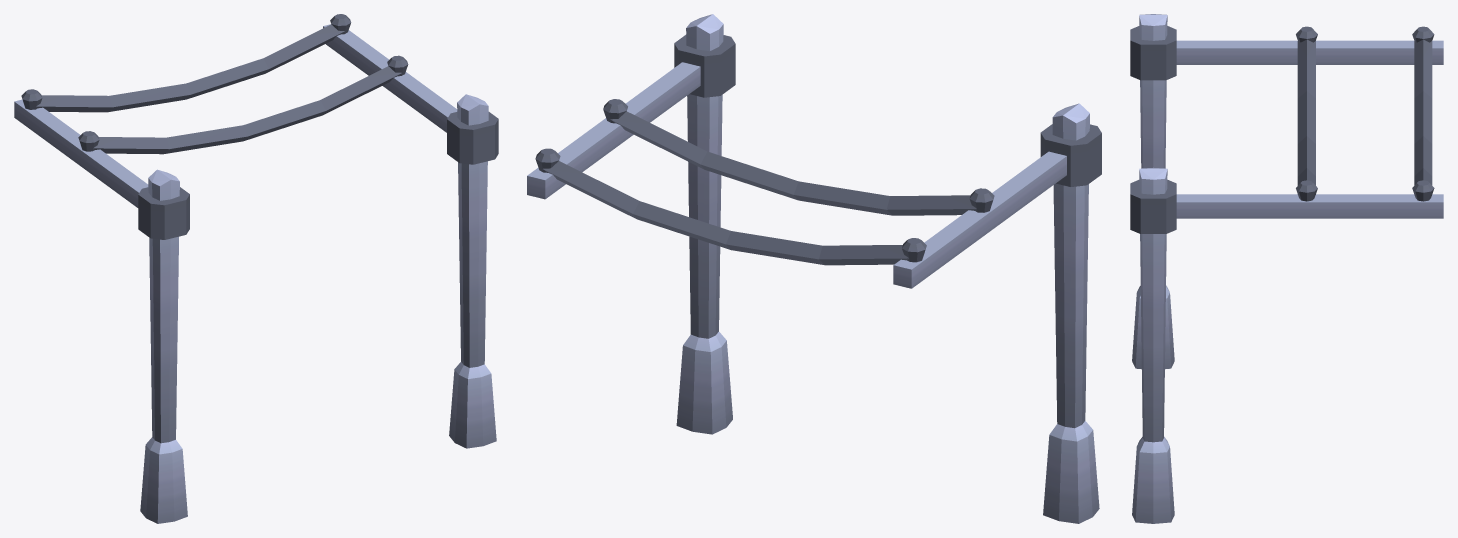
File: roads__electricity-side.glb
3 views of the same model, side by side, from view 1: azimuth 30°, elevation 25°; view 2: azimuth 150°, elevation 25°; view 3: azimuth 270°, elevation 25° (orthographic). The views are drawn at different scales.
Parts seen in each view (by area): view 1: electricity-side; view 2: electricity-side; view 3: electricity-side.
Part boxes in pixels (box(x1,y1,x2,y2)): electricity-side: box(14, 14, 498, 523); electricity-side: box(527, 14, 1101, 523); electricity-side: box(1130, 14, 1443, 523).
Bounding box in the file's own units: 0.5634 × 0.525 × 0.4306.
Materials: 1 (1 with a texture image).
